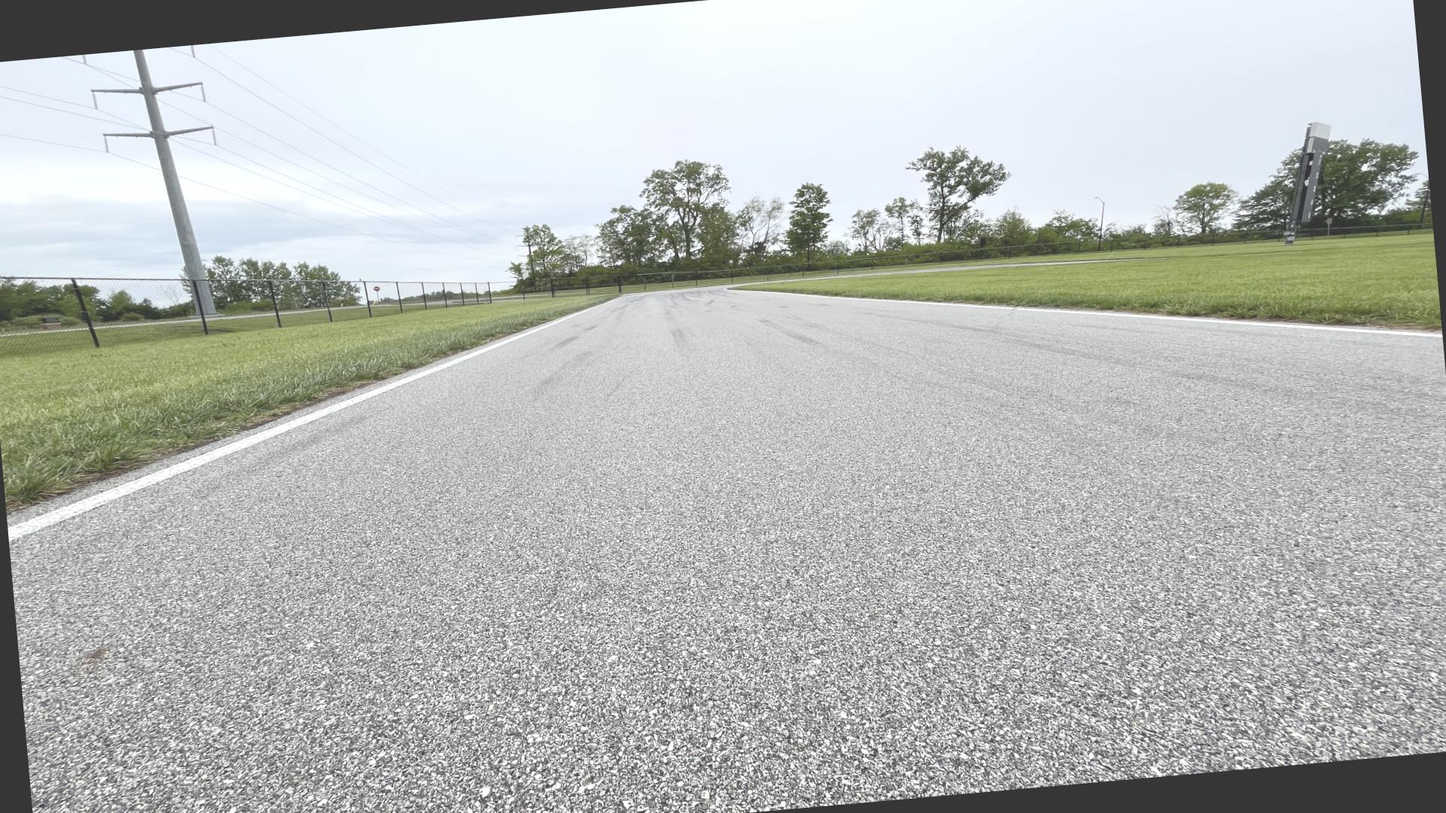white-line: (8, 292, 655, 540), (721, 282, 1442, 339)
